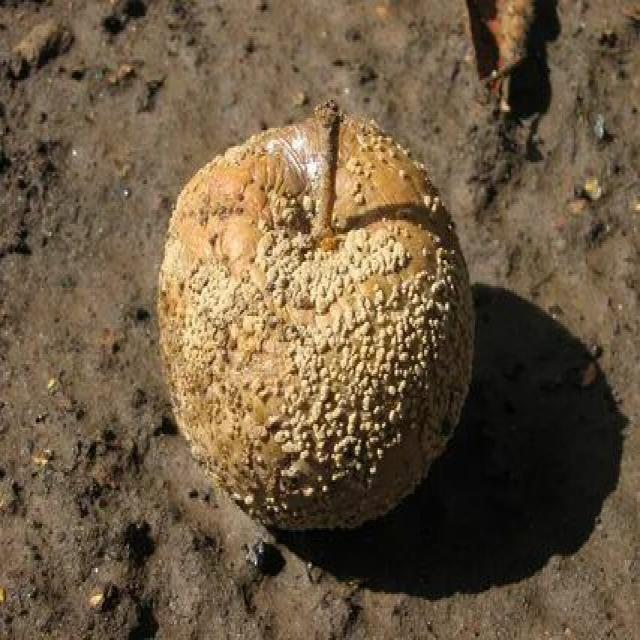Rotten: (165, 130, 448, 552)
